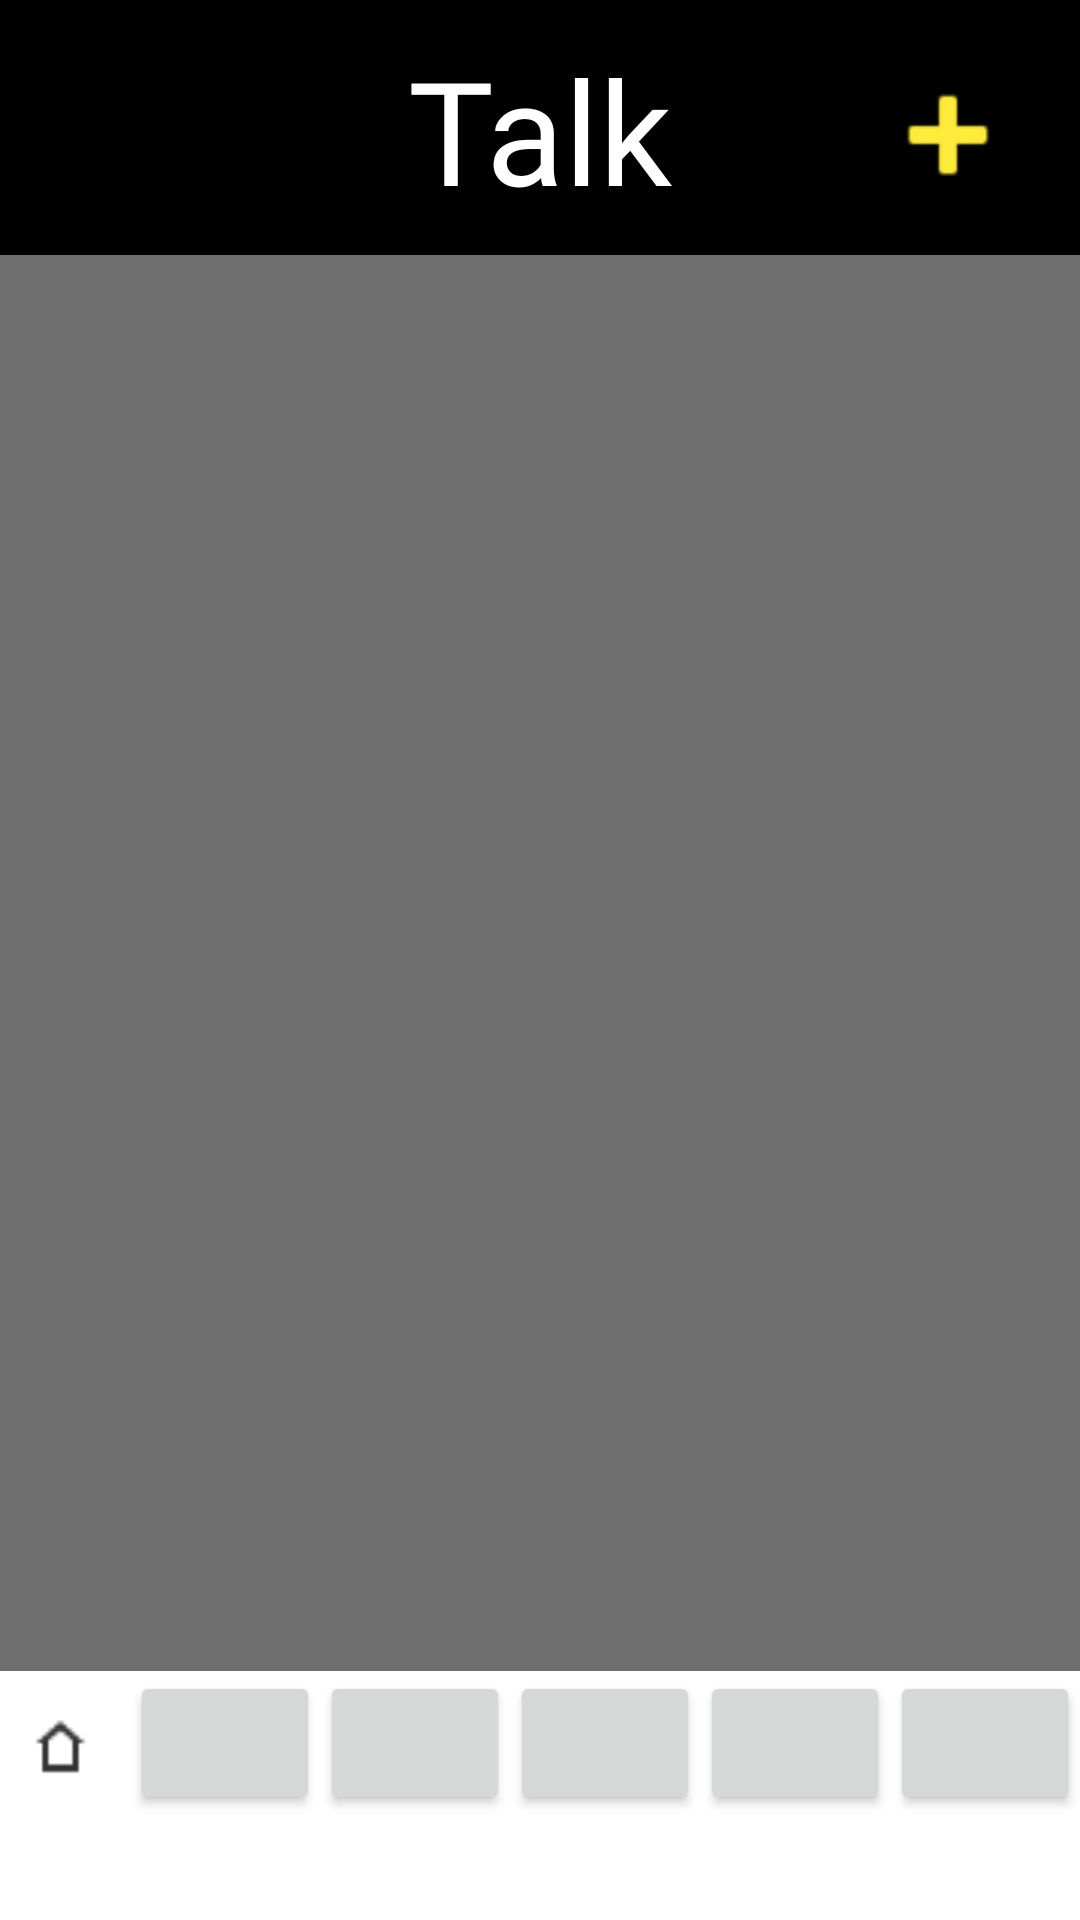

Icons on this 1080w x 1920h Android screen, each with the point to tap as point (x, y):
add: point (948, 135)
home: point (60, 1746)
